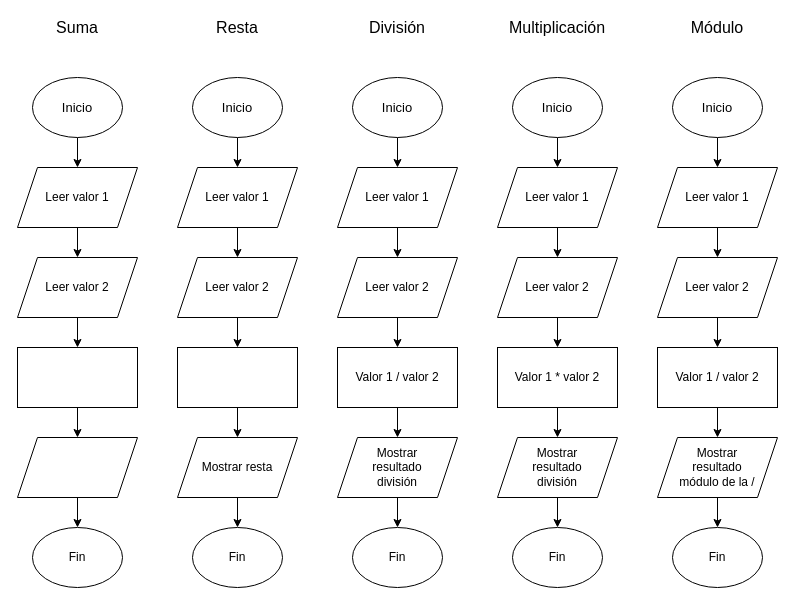
Some shapes in this 795 by 605 pixel diagram are drawn without their labels. Here are the shapes that lost their labels. From the top down, the centre of each, then its label:
(77,377): Valor 1 + valor 2
(237,377): Valor 1 - valor 2
(77,467): Mostrar suma
